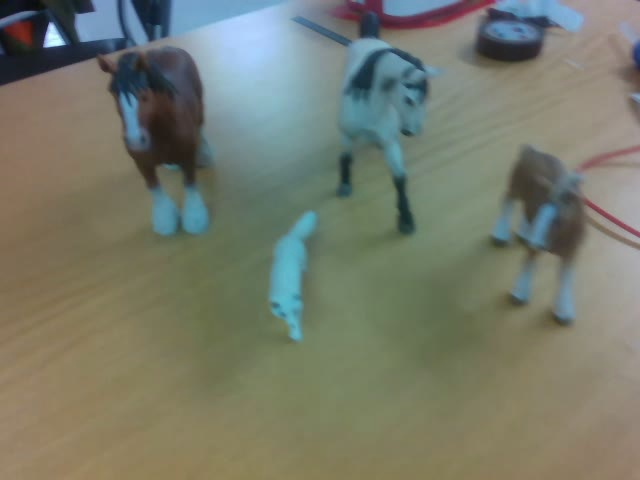toy: (336, 11, 439, 232), (93, 46, 207, 235), (492, 142, 584, 323), (269, 213, 315, 341)
